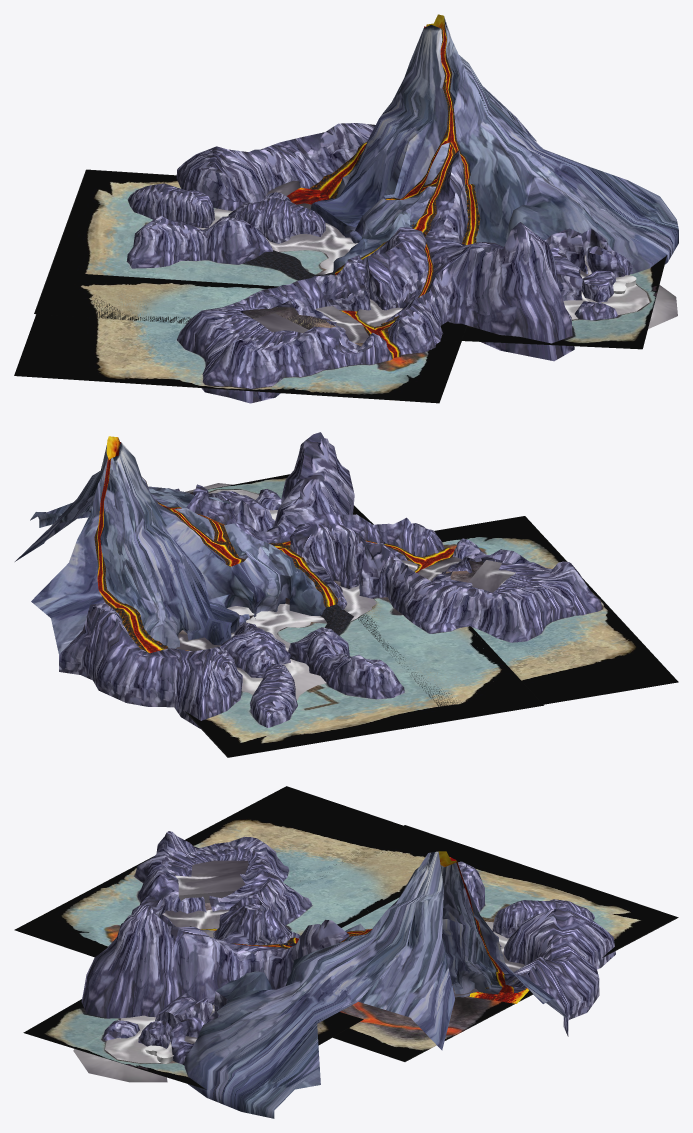
File: pir_m_are_isl_delFuego.fbx
The picture shows the model from 3 angles, top to bottom: view 1: azimuth 30°, elevation 25°; view 2: azimuth 150°, elevation 25°; view 3: azimuth 270°, elevation 25°; orthographic projection. The views are drawn at different scales.
Visible parts, largest first — view 1: rockFormation, minimap, floorSection, lava_combo, lava_hot, lava_cool; view 2: rockFormation, minimap, floorSection, lava_combo, lava_cool, lava_hot; view 3: rockFormation, minimap, floorSection, lava_combo, lava_hot.
Boxes of the visible parts, <box> form: rockFormation: <box>126,17,678,403</box>; minimap: <box>14,169,666,403</box>; floorSection: <box>196,180,677,342</box>; lava_combo: <box>385,14,470,298</box>; lava_hot: <box>287,144,475,358</box>; lava_cool: <box>308,141,480,358</box>; rockFormation: <box>15,432,602,728</box>; minimap: <box>89,474,678,757</box>; floorSection: <box>175,483,515,700</box>; lava_combo: <box>94,436,377,609</box>; lava_cool: <box>114,543,453,651</box>; lava_hot: <box>117,544,454,653</box>; rockFormation: <box>81,831,615,1118</box>; minimap: <box>14,786,678,1089</box>; floorSection: <box>73,860,525,1082</box>; lava_combo: <box>232,851,505,975</box>; lava_hot: <box>211,930,529,1003</box>.
Size of the model in its own units: 360413 by 106268 by 311700.
10 materials, 10 textured.
